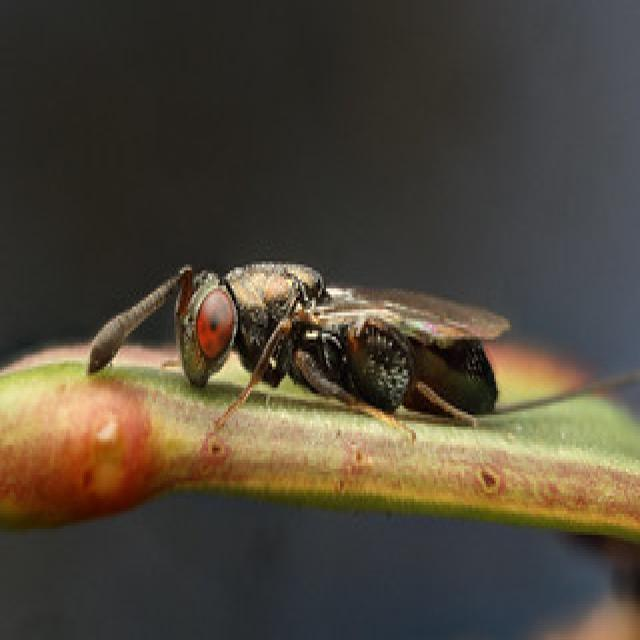Guepe: (76, 181, 565, 509)
